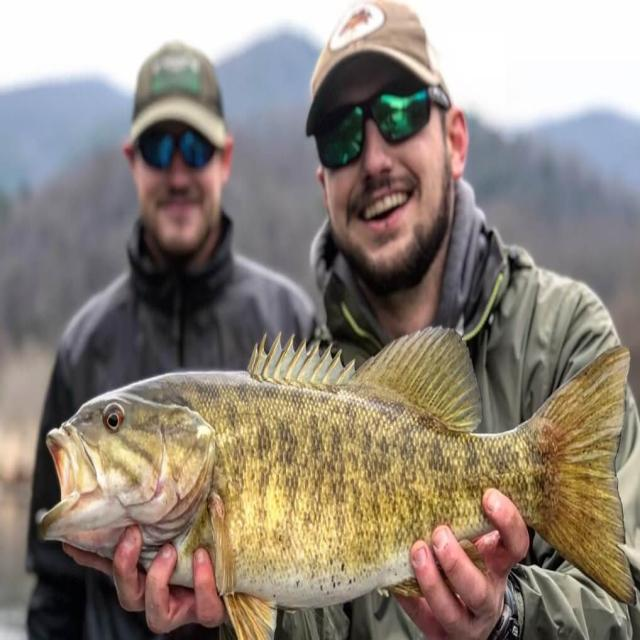Bass - Smallmouth: (39, 328, 635, 639)
